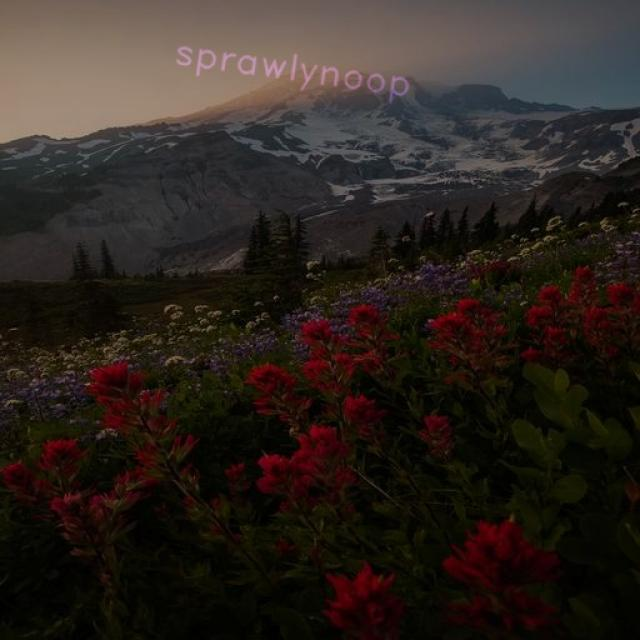watermark: (164, 35, 436, 103)
